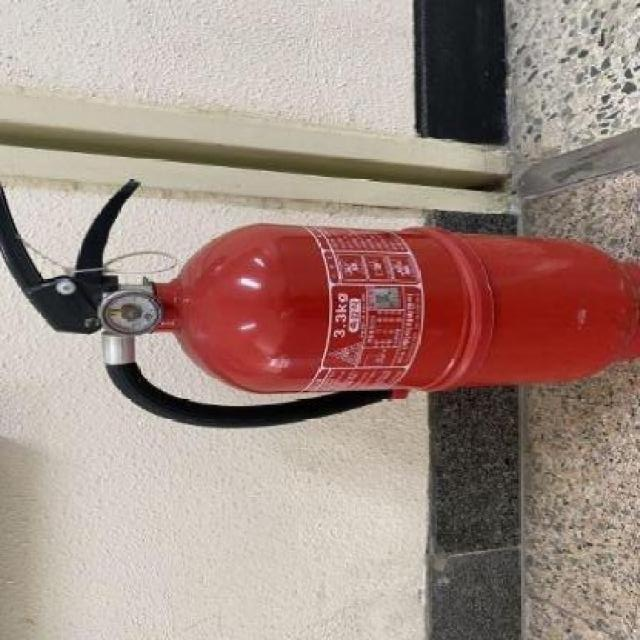fire extinguisher: (0, 180, 640, 429)
